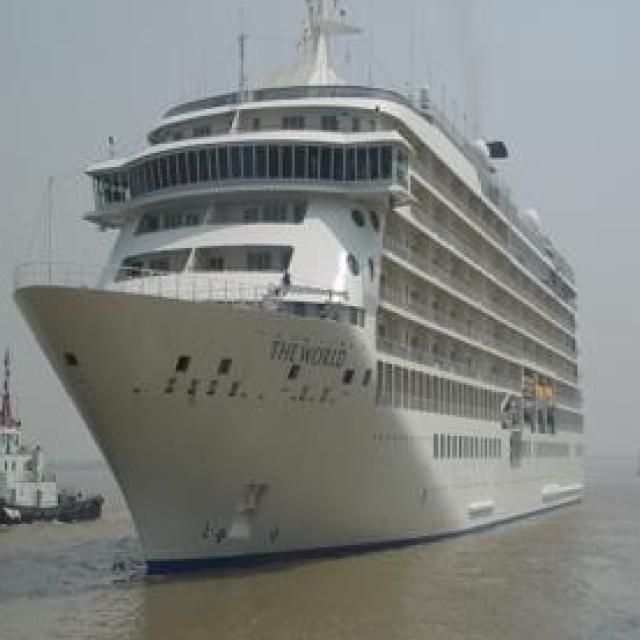passenger ship: (16, 0, 587, 566), (0, 350, 107, 524)
